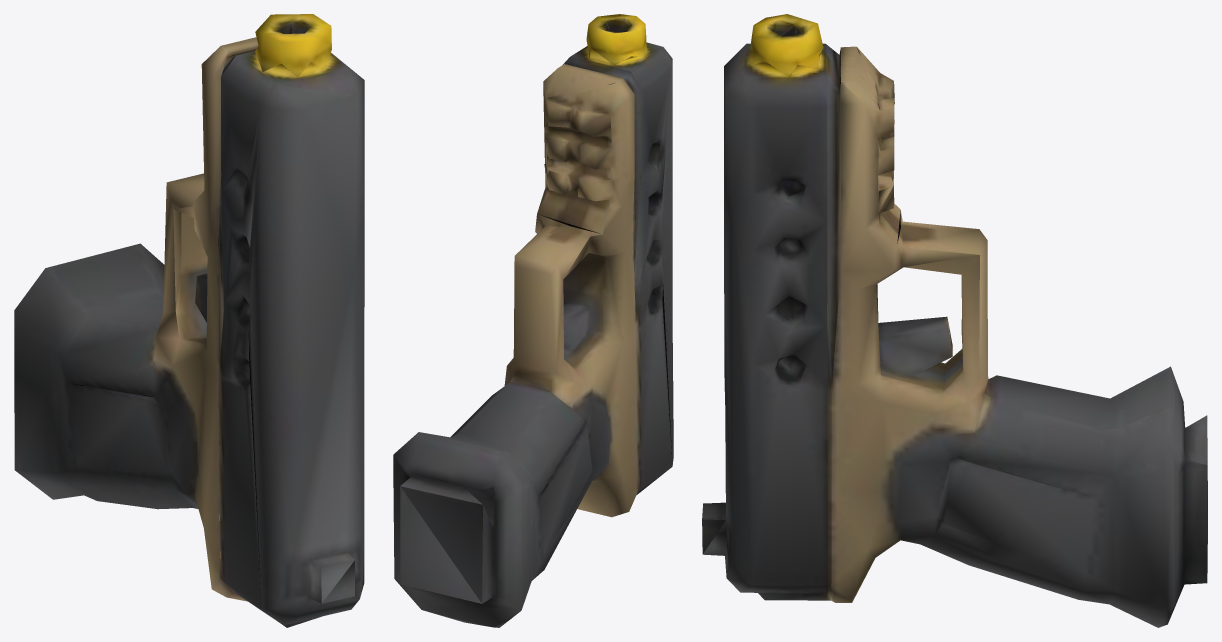
File: hawk50.glb
3 views of the same model, side by side, from view 1: azimuth 30°, elevation 25°; view 2: azimuth 150°, elevation 25°; view 3: azimuth 270°, elevation 25° (orthographic). The views are drawn at different scales.
Visible parts, largest first — view 1: part_slide, hawk50; view 2: hawk50, part_slide; view 3: hawk50, part_slide.
Boxes of the visible parts, x1,y1,x2,y2 form: part_slide: (218,23,364,627); hawk50: (14,14,331,601); hawk50: (393,14,646,627); part_slide: (570,23,673,494); hawk50: (750,14,1207,627); part_slide: (702,26,831,600).
Bounding box in the file's own units: 0.0776 × 0.2812 × 0.2217.
Materials: 1 (1 with a texture image).
